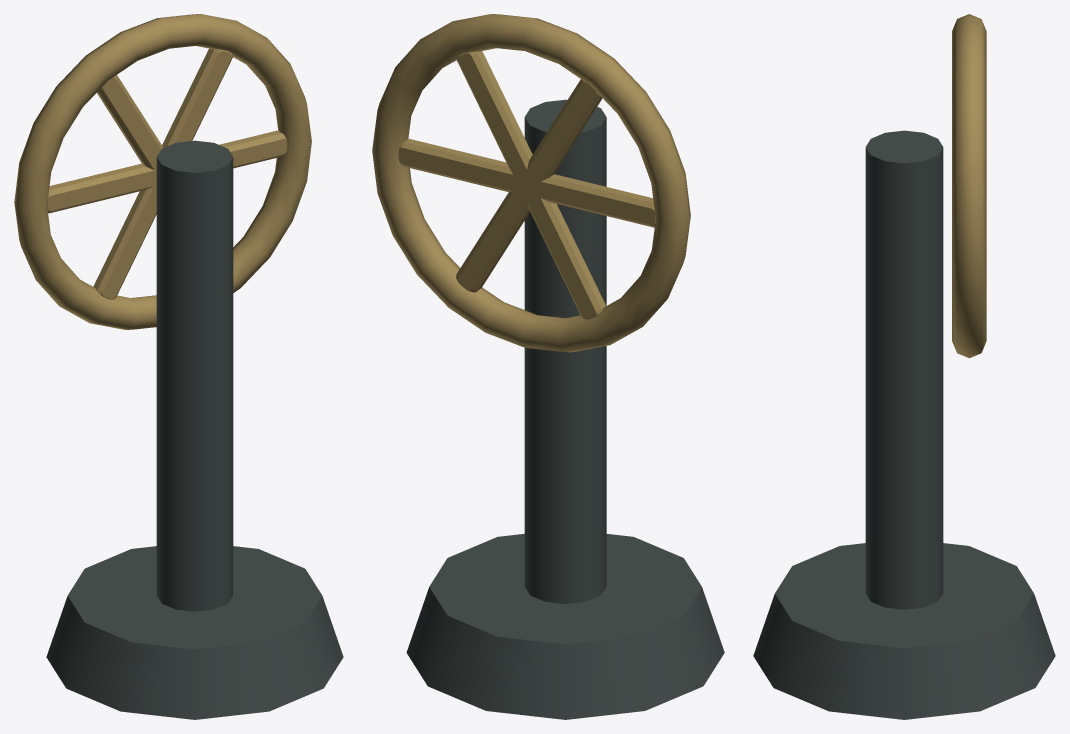
The model's file is valve.glb.
The picture shows the model from 3 angles, left to right: view 1: azimuth 30°, elevation 25°; view 2: azimuth 150°, elevation 25°; view 3: azimuth 270°, elevation 25°; orthographic projection. The views are drawn at different scales.
Parts seen in each view (by area): view 1: valve, wheel; view 2: valve, wheel; view 3: valve, wheel.
Boxes of the visible parts, box(x1,y1,x2,y2) form: valve: box(46, 140, 343, 719); wheel: box(14, 14, 311, 329); valve: box(406, 99, 724, 719); wheel: box(372, 14, 690, 352); valve: box(753, 130, 1055, 719); wheel: box(952, 14, 986, 358).
Bounding box in the file's own units: 0.8 × 1.6 × 0.7.
